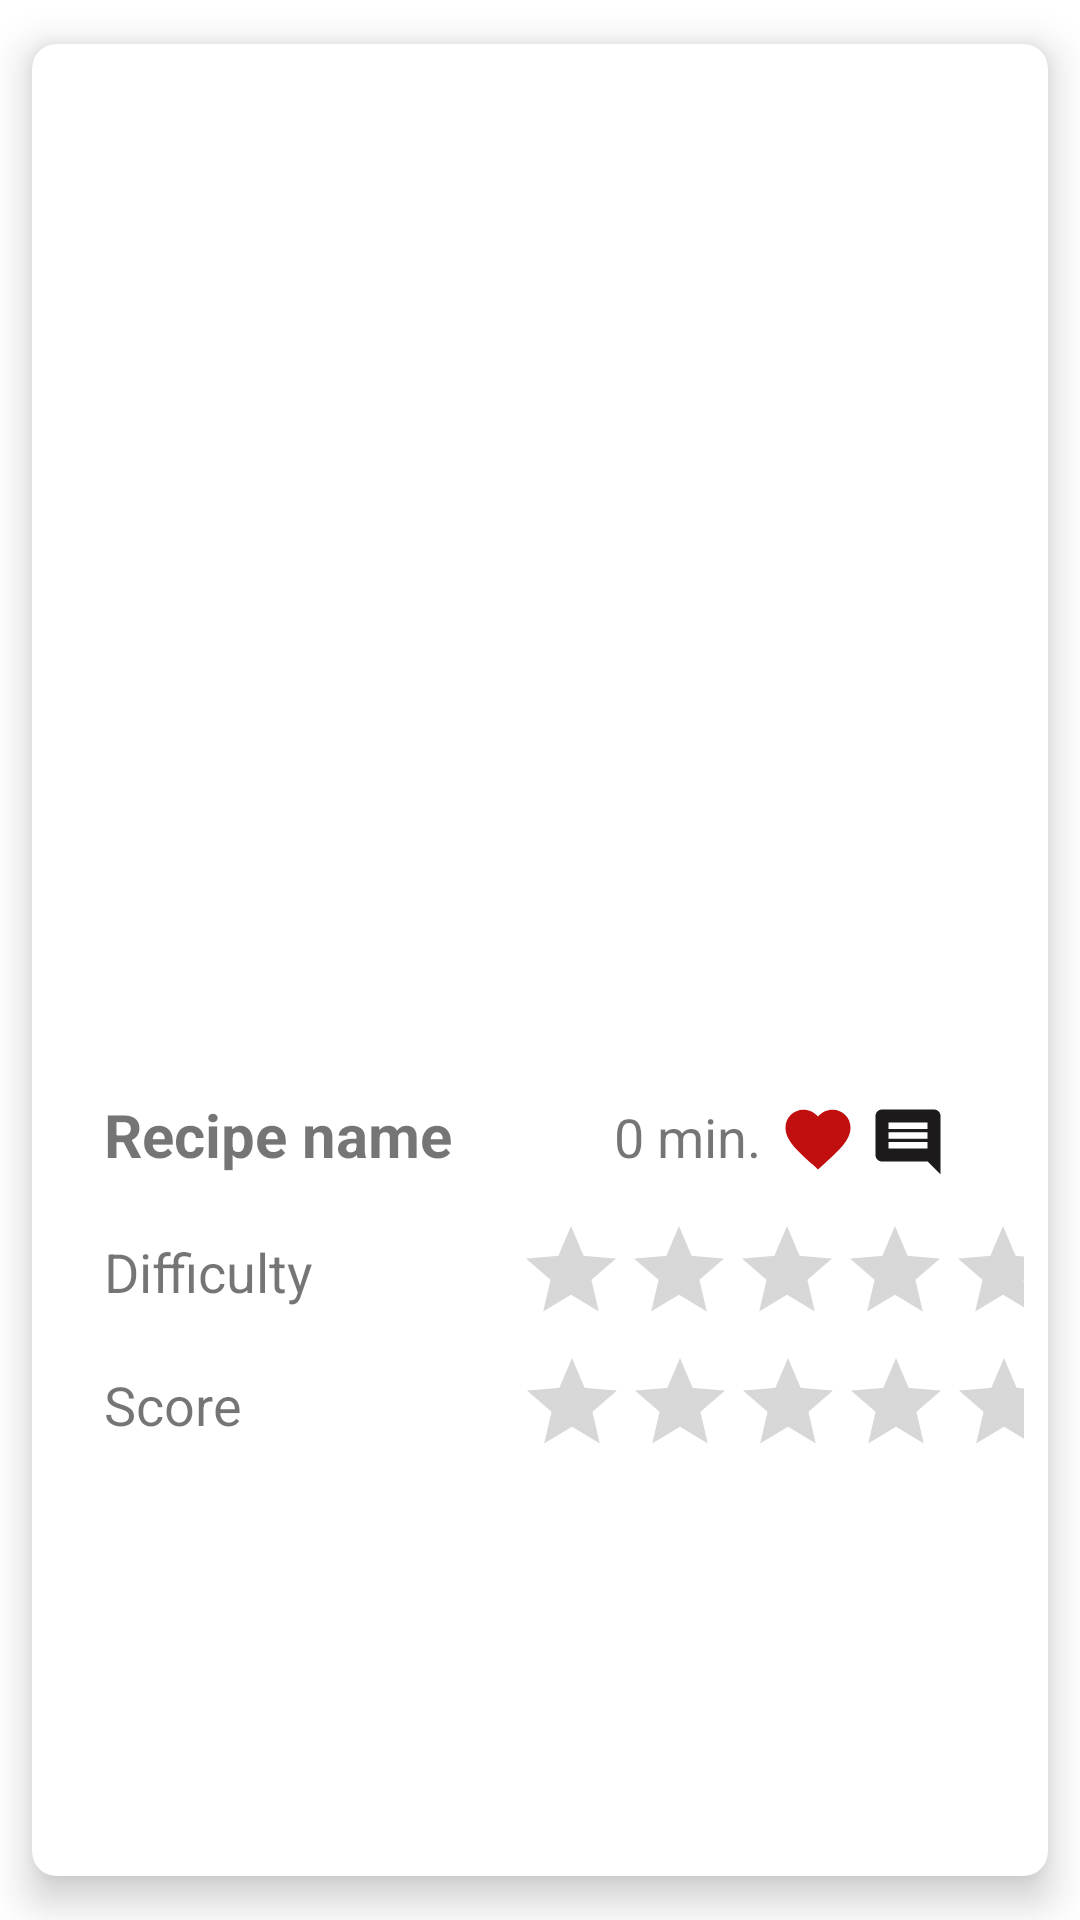

Point at icon controls on the screen. Image size 1080 x 1920, points as point (x, y).
favorite: point (818, 1139)
insert comment: point (908, 1141)
